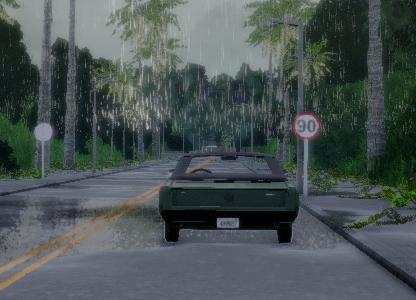Speed_90: (291, 110, 323, 143)
